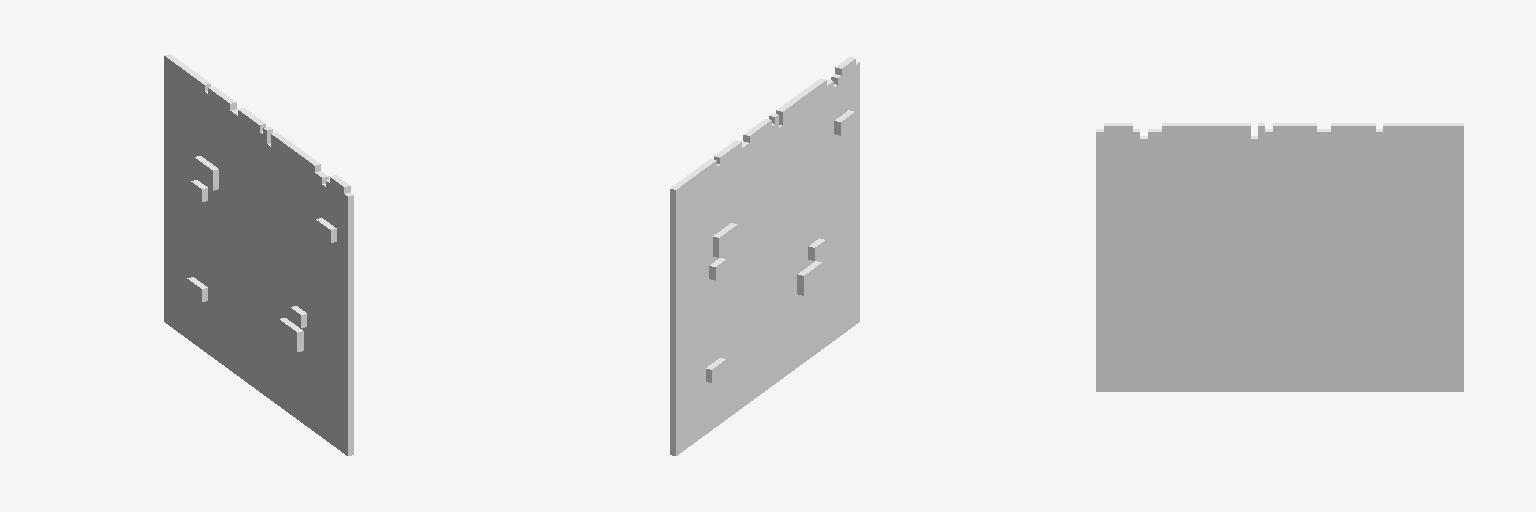
The model's file is vox-58-Wall_01.obj.
3 renders of one model, left to right at view 1: azimuth 30°, elevation 25°; view 2: azimuth 150°, elevation 25°; view 3: azimuth 270°, elevation 25°, orthographic.
Parts seen in each view (by area): view 1: Wall_01; view 2: Wall_01; view 3: Wall_01.
Boxes of the visible parts, box(x1,y1,x2,y2) form: Wall_01: box(164, 54, 353, 455); Wall_01: box(670, 57, 859, 455); Wall_01: box(1096, 123, 1463, 391).
Size of the model in its own units: 0.2 by 4 by 5.